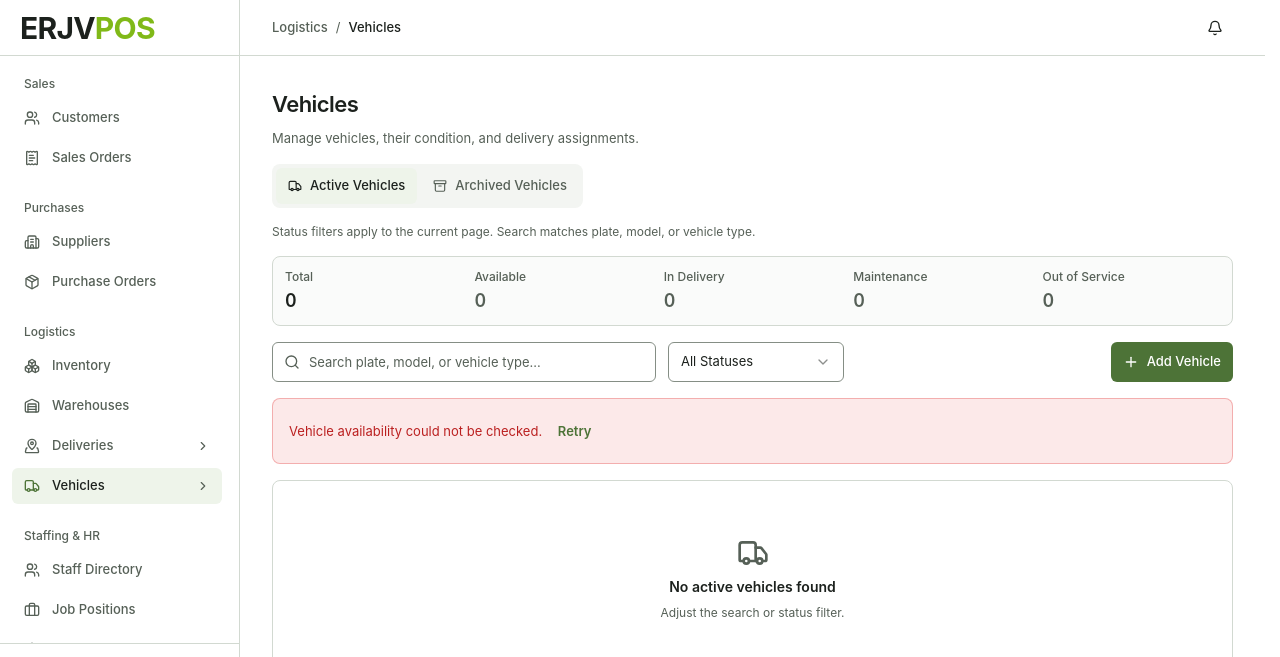
Test: uses the application breadcrumb for client-side section navigation
The width and height of the screenshot is (1280, 657).
Click the link "Logistics" at [300, 28], box [272,18,328,37]
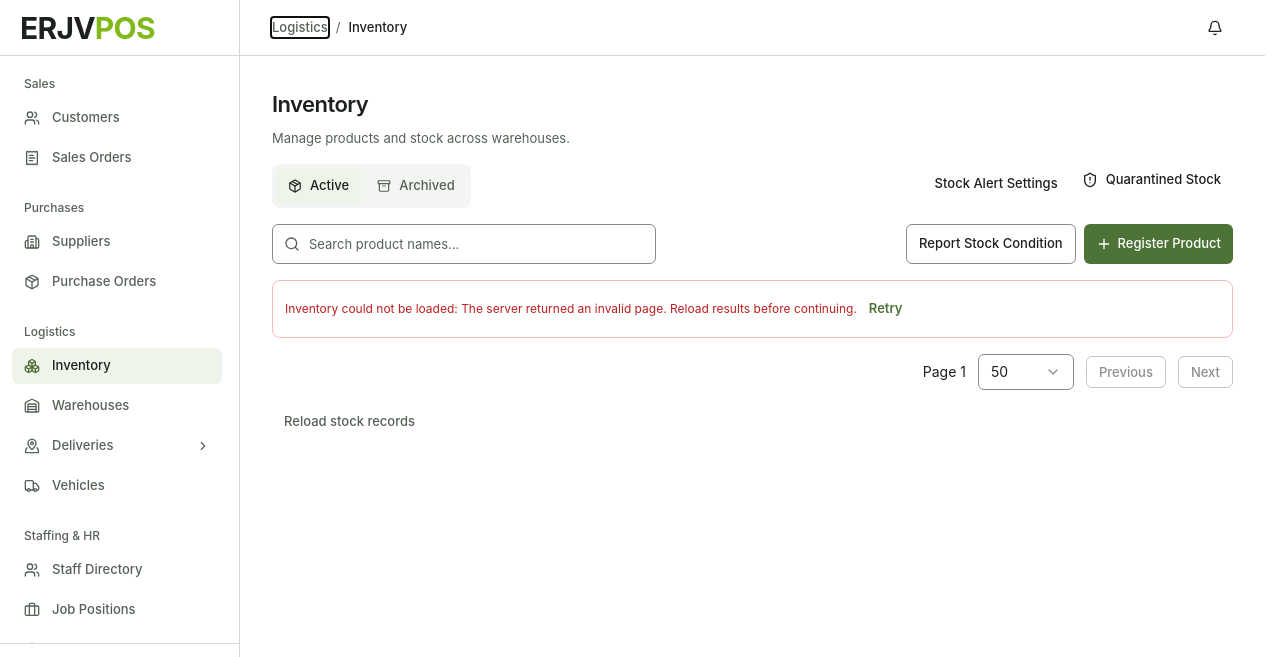
Expected: the heading "Inventory" is shown, [272,91,368,117]
